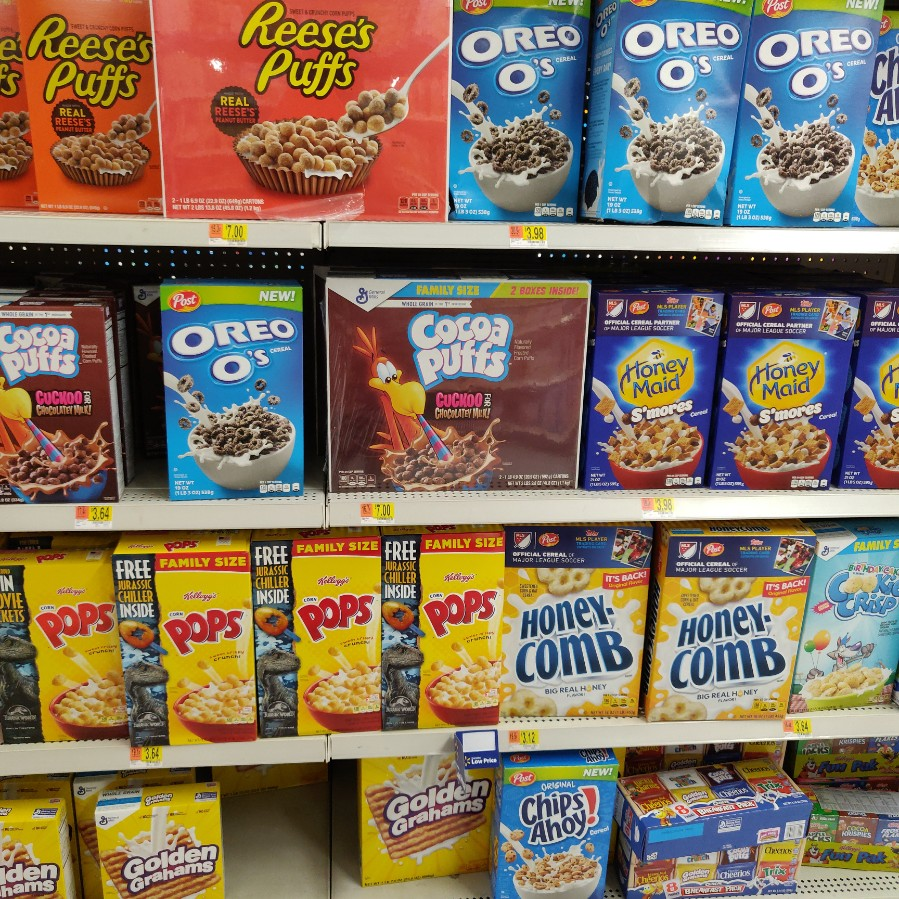Chips Ahoys-565717529: (495, 756, 607, 899)
Honey Comb- 009288857: (652, 522, 807, 721), (505, 531, 650, 724)
Oreo-563424384: (157, 282, 302, 497), (453, 3, 586, 216), (742, 1, 864, 229), (611, 7, 731, 229)
